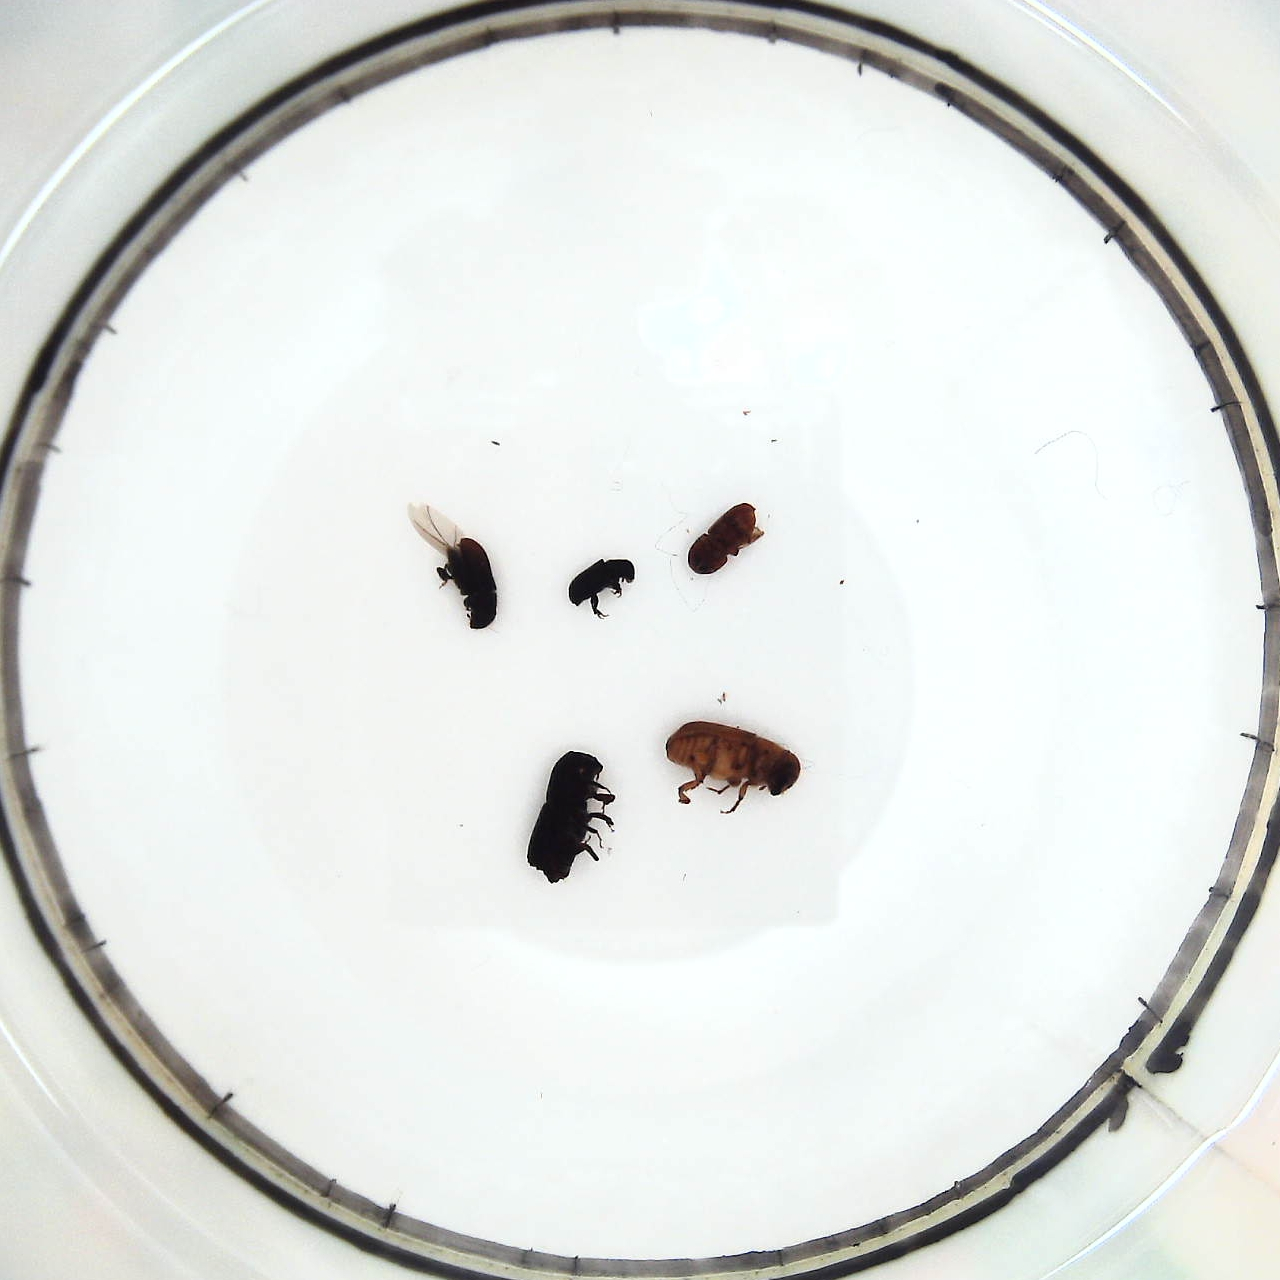Boerner: (520, 749, 619, 885)
Leconte: (662, 715, 804, 821)
armandi: (404, 495, 504, 636)
coleoptera: (565, 556, 645, 622)
linnaeus: (685, 498, 765, 581)
